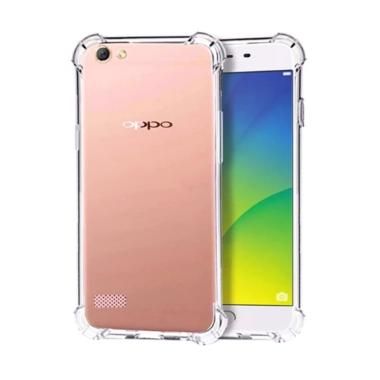Handphone: (68, 27, 228, 351)
